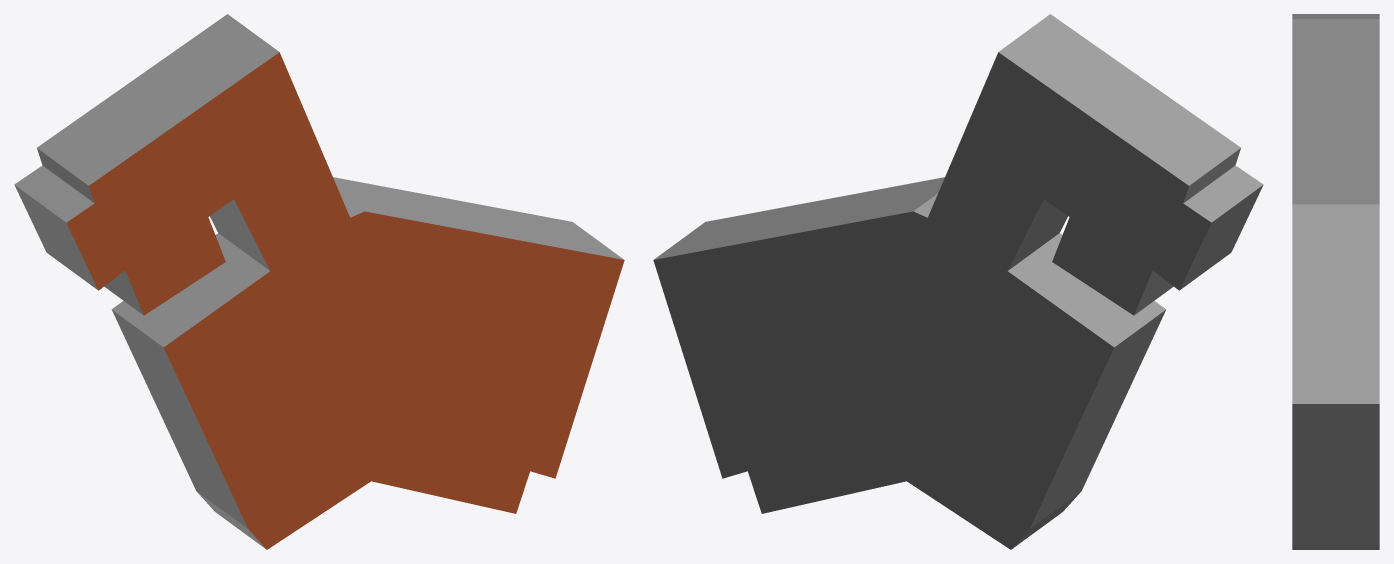
The model's file is construction_0830_assumed_A_Casa_h6m.obj.
The picture shows the model from 3 angles, left to right: view 1: azimuth 30°, elevation 25°; view 2: azimuth 150°, elevation 25°; view 3: azimuth 270°, elevation 25°; orthographic projection. The views are drawn at different scales.
Visible parts, largest first — view 1: construction_0830_assumed_A_Casa; view 2: construction_0830_assumed_A_Casa; view 3: construction_0830_assumed_A_Casa.
Boxes of the visible parts, left/top/right/bottom form: construction_0830_assumed_A_Casa: left=14, top=14, right=624, bottom=549; construction_0830_assumed_A_Casa: left=653, top=14, right=1263, bottom=549; construction_0830_assumed_A_Casa: left=1292, top=14, right=1379, bottom=549.
Size of the model in its own units: 37.13 by 33.02 by 6.
